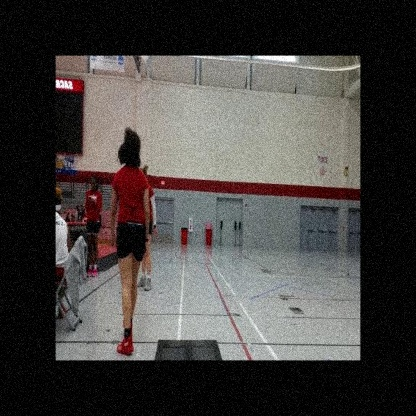lateral_flexion_left: (106, 125, 150, 357)
stance_width_narrow: (108, 165, 151, 355)
